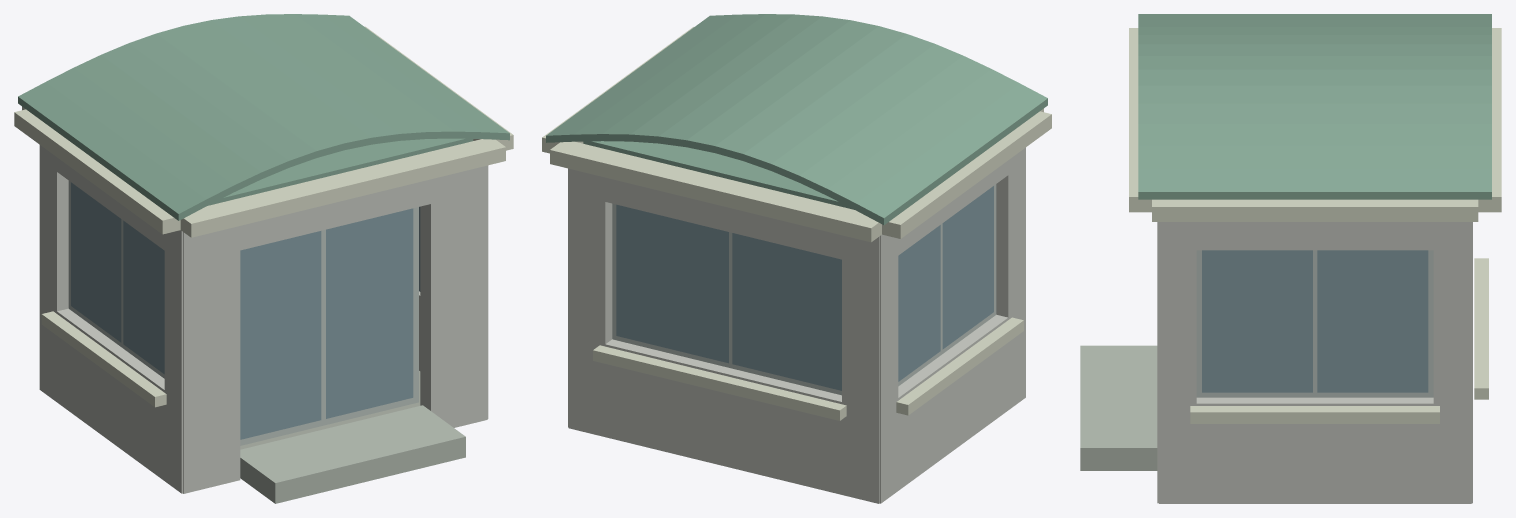
3 views of the same model, side by side, from view 1: azimuth 30°, elevation 25°; view 2: azimuth 150°, elevation 25°; view 3: azimuth 270°, elevation 25° (orthographic). The views are drawn at different scales.
Parts seen in each view (by area): view 1: guard__roof, guard__wall, guard__glass, guard__trim, guard__threshold, guard__frame, guard__slab; view 2: guard__wall, guard__roof, guard__glass, guard__trim, guard__frame; view 3: guard__roof, guard__wall, guard__glass, guard__trim, guard__threshold, guard__frame.
Part boxes in pixels (x1,y1,x2,y2): guard__roof: [18, 14, 509, 220]; guard__wall: [39, 145, 488, 493]; guard__glass: [71, 182, 420, 439]; guard__trim: [14, 26, 513, 407]; guard__threshold: [240, 405, 465, 503]; guard__frame: [68, 181, 418, 445]; guard__slab: [240, 371, 420, 449]; guard__wall: [568, 147, 1025, 503]; guard__roof: [546, 14, 1047, 224]; guard__glass: [616, 186, 993, 390]; guard__trim: [542, 27, 1051, 420]; guard__frame: [612, 184, 996, 395]; guard__roof: [1138, 14, 1491, 199]; guard__wall: [1157, 222, 1472, 503]; guard__glass: [1202, 250, 1428, 392]; guard__trim: [1129, 28, 1501, 423]; guard__threshold: [1080, 345, 1157, 470]; guard__frame: [1196, 250, 1433, 397].
Bounding box in the file's own units: 4.24 × 3.71 × 4.
